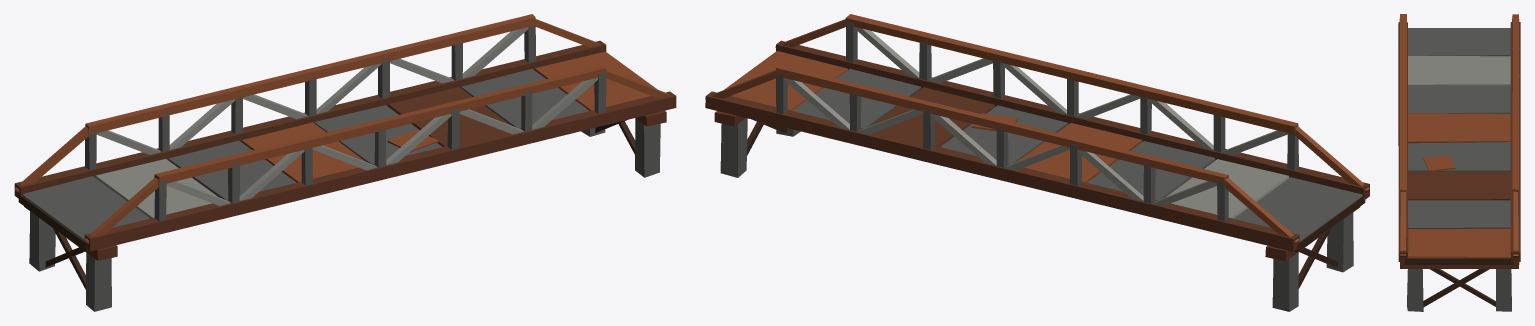
File: bridge.glb
3 views of the same model, side by side, from view 1: azimuth 30°, elevation 25°; view 2: azimuth 150°, elevation 25°; view 3: azimuth 270°, elevation 25° (orthographic). The views are drawn at different scales.
Visible parts, largest first — view 1: bridge; view 2: bridge; view 3: bridge.
Part boxes in pixels (<box>): bridge: <box>14,14,676,311</box>; bridge: <box>705,14,1369,311</box>; bridge: <box>1398,14,1520,311</box>.
Bounding box in the file's own units: 32.19 × 6.55 × 7.19.
